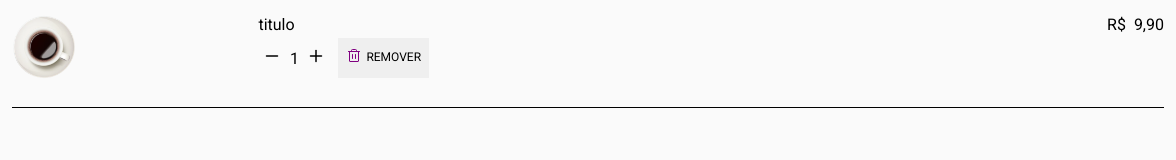
it: SelectedCoffee component › should increment the counter
Click the button with test id "addOneProductUnity" at (316, 58), box [308,48,324,68]
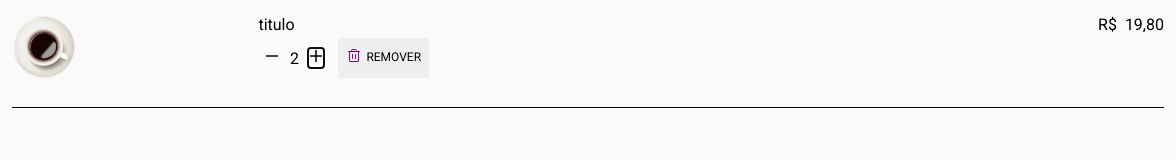
Now the number field with test id "counter" holds "2", box [284,48,304,68]
